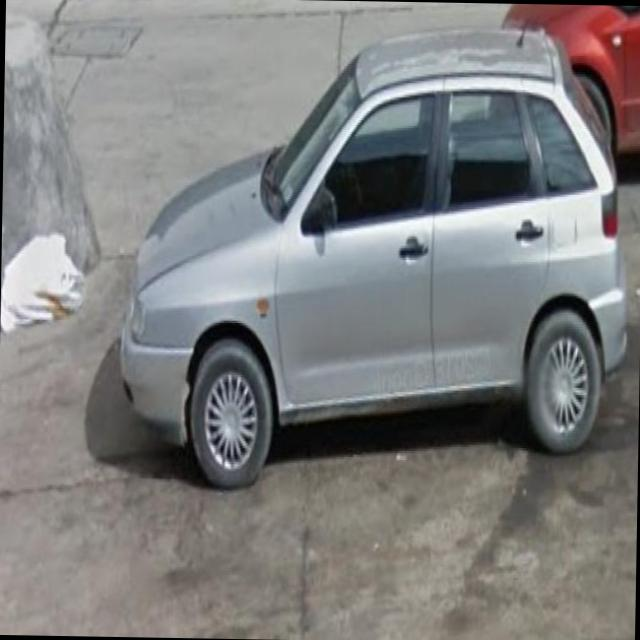car: (115, 40, 625, 492)
